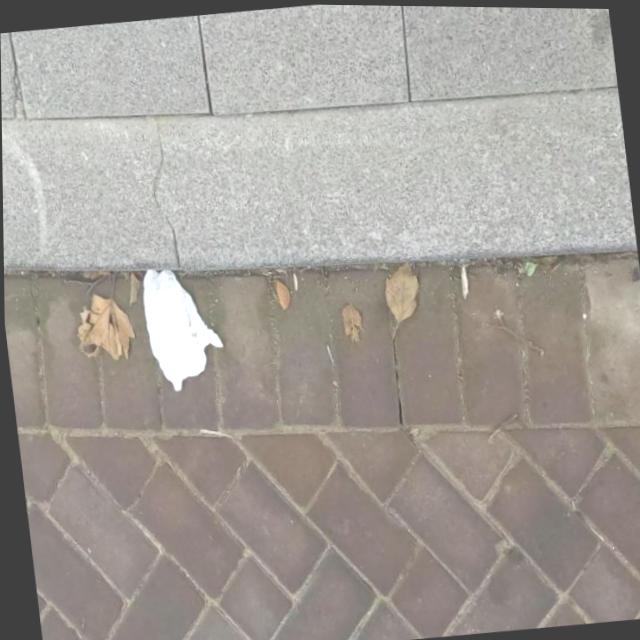Paper: (136, 258, 227, 395)
